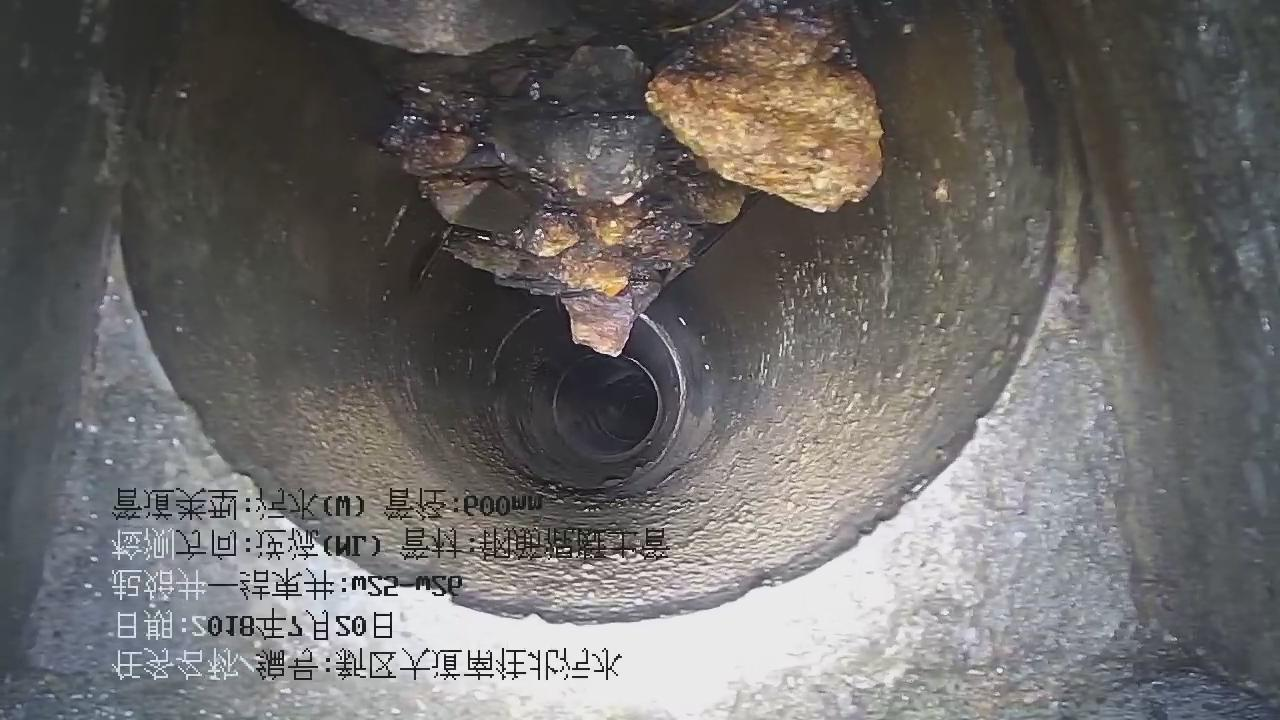ZAW: (285, 1, 883, 356)
